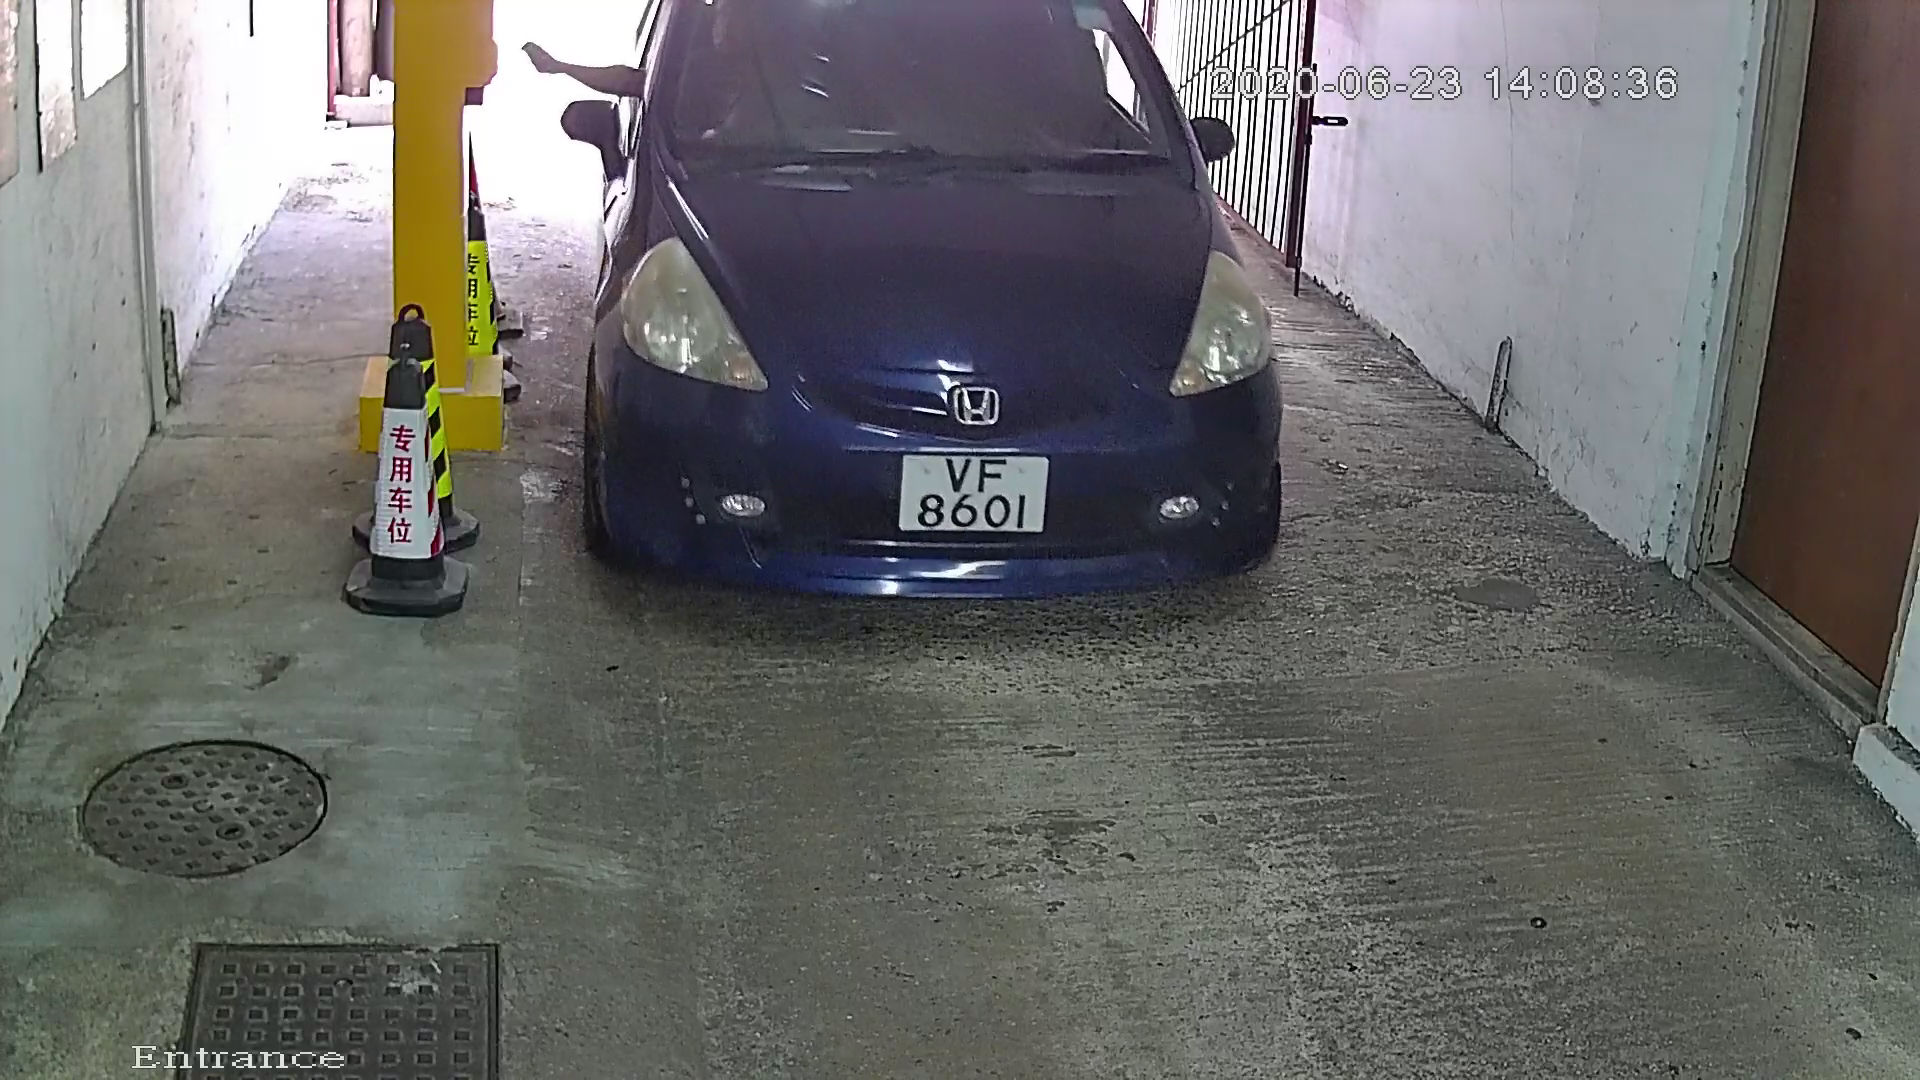privatecar: (524, 3, 1324, 649)
